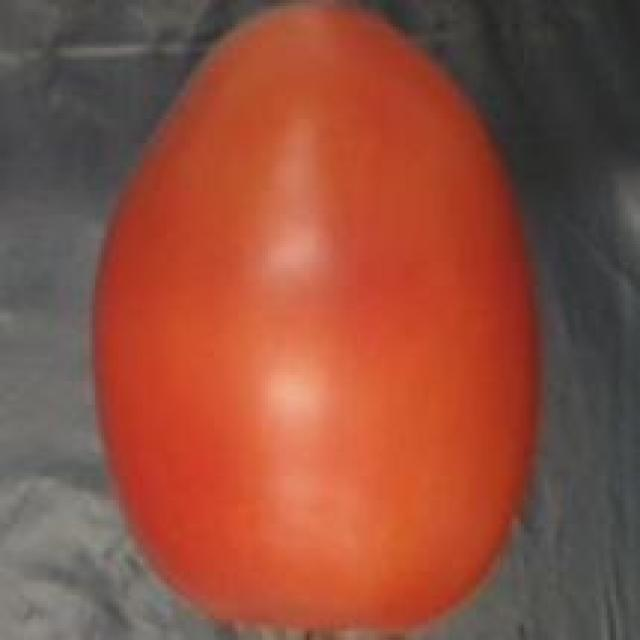ripe tomato: (83, 0, 554, 640)
